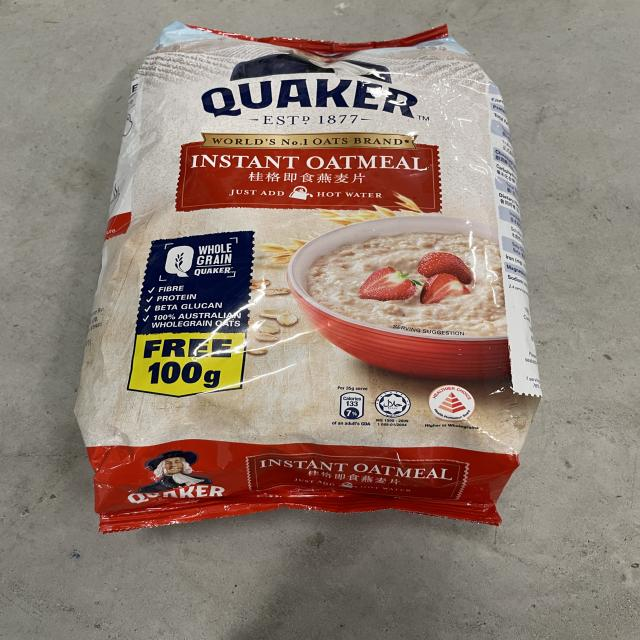object_name: (121, 27, 502, 511)
